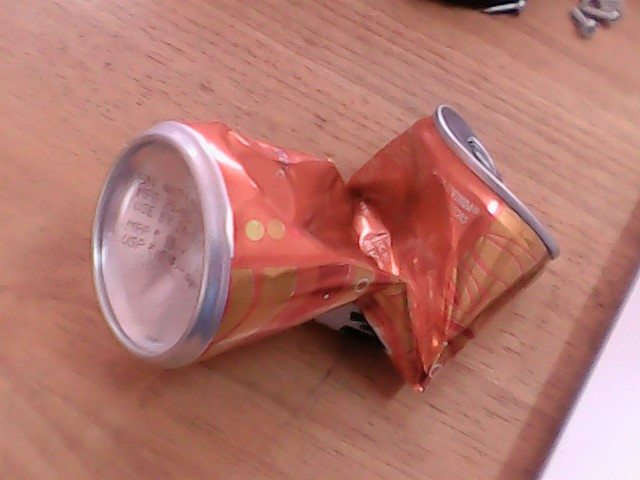Metal: (83, 114, 570, 353)
